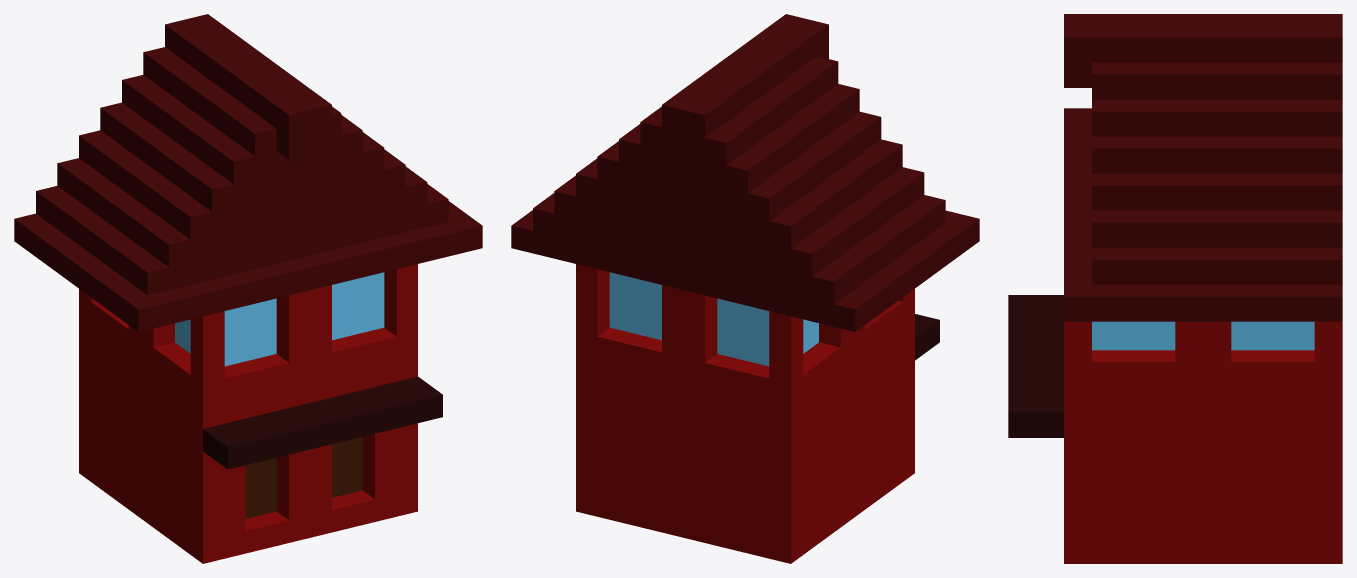
The model's file is House 1.obj.
3 renders of one model, left to right at view 1: azimuth 30°, elevation 25°; view 2: azimuth 150°, elevation 25°; view 3: azimuth 270°, elevation 25°, orthographic. The views are drawn at different scales.
Bounding box in the file's own units: 1.6 × 1.9 × 1.2.
Materials: 1 (1 with a texture image).
